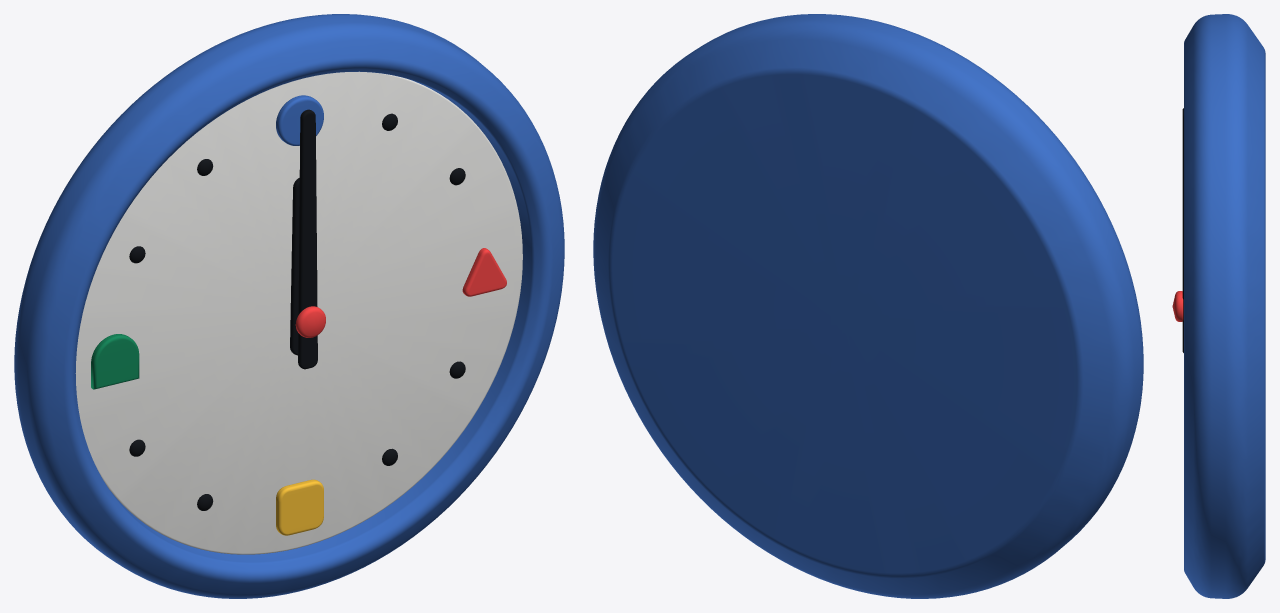
File: wall-clock.glb
3 views of the same model, side by side, from view 1: azimuth 30°, elevation 25°; view 2: azimuth 150°, elevation 25°; view 3: azimuth 270°, elevation 25° (orthographic). The views are drawn at different scales.
Visible parts, largest first — view 1: clock_face, clock_rim, minute_hand_mesh, marker_square, marker_arch, hour_dots, marker_circle, hour_hand_mesh, marker_triangle, clock_pin; view 2: clock_rim; view 3: clock_rim, minute_hand_mesh, clock_pin.
Part boxes in pixels (x1=…): clock_face: x1=75, y1=71, x2=522, y2=554; clock_rim: x1=14, y1=14, x2=564, y2=598; minute_hand_mesh: x1=298, y1=109, x2=317, y2=369; marker_square: x1=276, y1=479, x2=323, y2=535; marker_arch: x1=91, y1=334, x2=139, y2=389; hour_dots: x1=129, y1=113, x2=465, y2=510; marker_circle: x1=276, y1=95, x2=323, y2=145; hour_hand_mesh: x1=290, y1=178, x2=299, y2=355; marker_triangle: x1=462, y1=248, x2=506, y2=296; clock_pin: x1=295, y1=306, x2=325, y2=337; clock_rim: x1=593, y1=14, x2=1143, y2=598; clock_rim: x1=1184, y1=14, x2=1265, y2=598; minute_hand_mesh: x1=1182, y1=108, x2=1183, y2=352; clock_pin: x1=1172, y1=291, x2=1183, y2=321.
Size of the model in its own units: 0.3193 by 0.3193 by 0.0508.
